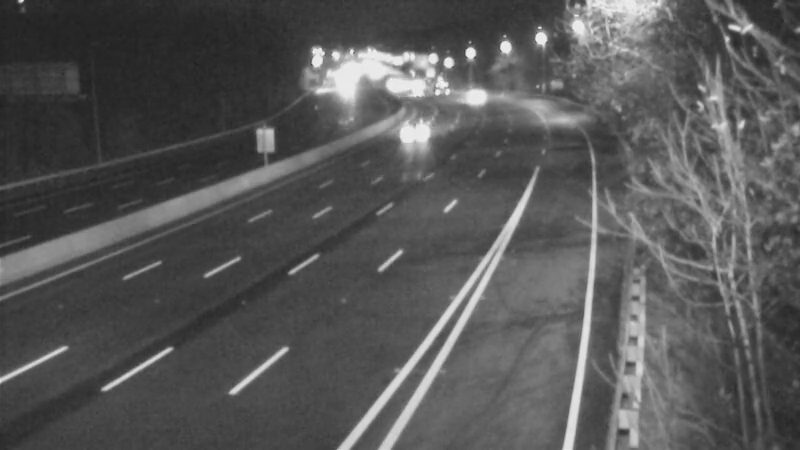vehicle: (415, 67, 465, 117), (389, 73, 439, 123), (446, 70, 496, 120), (394, 106, 444, 156)
